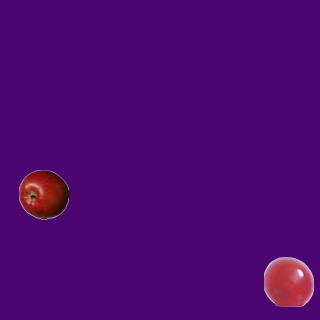Apple Braeburn: (18, 169, 68, 219)
Redcurrant: (263, 256, 313, 306)
